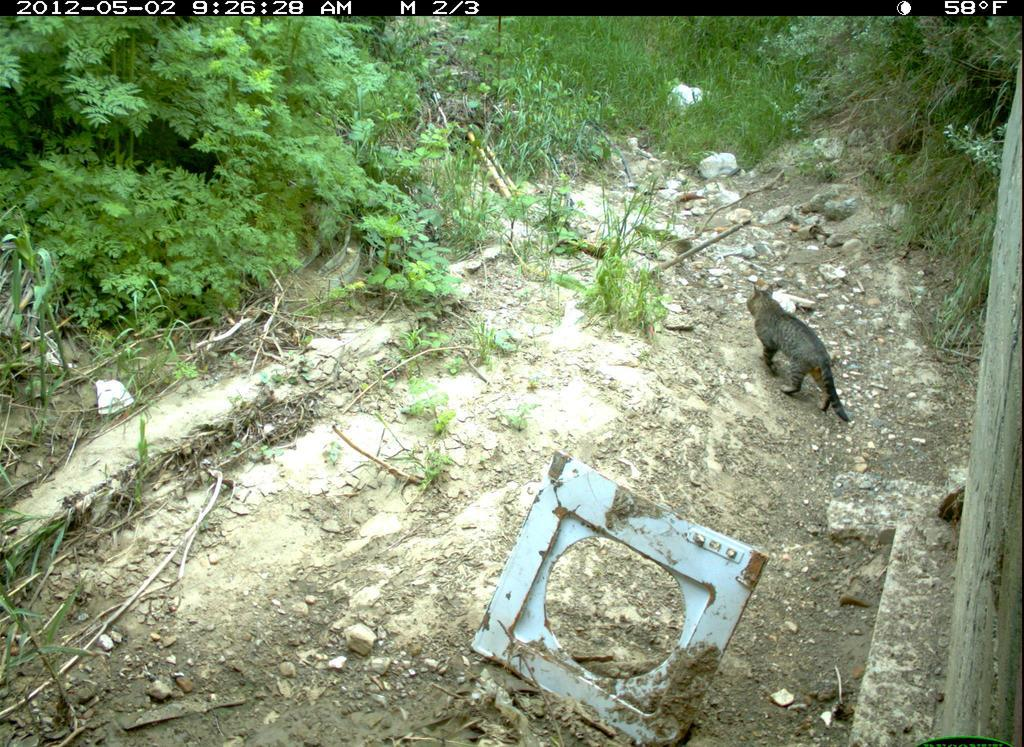cat: (743, 281, 859, 431)
